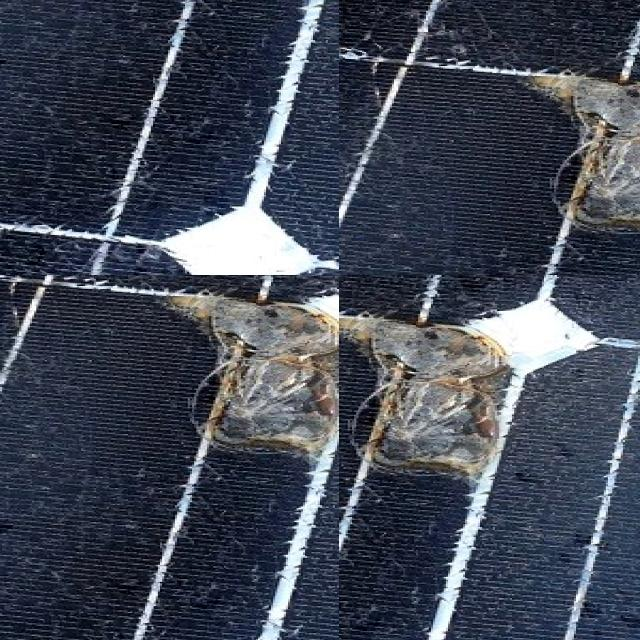crack: (0, 275, 339, 640)
dust: (402, 90, 640, 171), (496, 170, 640, 256), (339, 0, 575, 37), (339, 162, 430, 255), (552, 15, 640, 93)
panel: (263, 0, 339, 57), (126, 0, 222, 27)
shadow: (339, 275, 567, 501)
